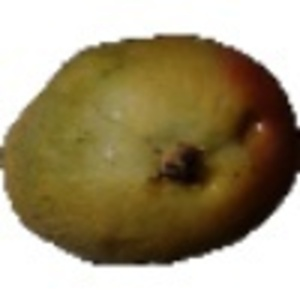mamão: (3, 26, 297, 272)
